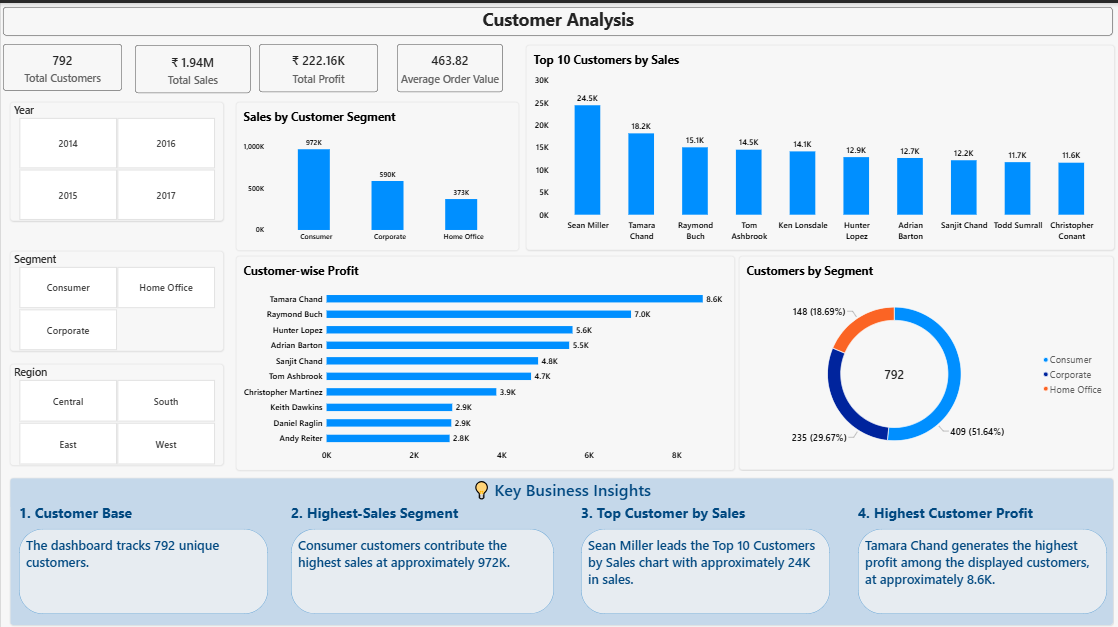

This screenshot's page, from the dashboard's own definition file:
{"tool":"powerbi","page":{"name":"Customer Analysis","canvas":[2560,1440],"ordinal":2},"visuals":[{"type":"textbox","title":"Customer Analysis","box":[5.4,8.1,2535.7,64.7],"z":0},{"type":"card","fields":{"Values":["All Measures.Total Customers"]},"box":[4.6,93.7,272,107.4],"z":1000},{"type":"card","fields":{"Values":["All Measures.Total Sales"]},"box":[307.2,97,264.1,110.5],"z":2000},{"type":"card","fields":{"Values":["All Measures.Total Profit"]},"box":[590.1,94.3,272,109.7],"z":3000},{"type":"card","fields":{"Values":["All Measures.Average Order Value"]},"box":[905.4,94.3,241.7,109.7],"z":4000},{"type":"clusteredColumnChart","title":"Sales by Customer Segment","fields":{"Category":["Dim_Customer.Segment"],"Y":["All Measures.Total Sales"]},"box":[536.3,226.4,646.7,339.5],"z":5000},{"type":"clusteredColumnChart","title":"Top 10 Customers by Sales","fields":{"Category":["Dim_Customer.Customer Name"],"Y":["All Measures.Total Sales"]},"box":[1199.2,97,1344.7,468.9],"z":6000},{"type":"clusteredBarChart","title":"Customer-wise Profit","fields":{"Category":["Dim_Customer.Customer Name"],"Y":["All Measures.Total Profit"]},"box":[536.3,579.4,1139.9,490.4],"z":7000},{"type":"slicer","fields":{"Values":["Dim_Date.Year"]},"box":[21.6,226.4,487.7,272.2],"z":8000},{"type":"slicer","fields":{"Values":["Dim_Customer.Segment"]},"box":[21.6,565.9,487.7,229.1],"z":9000},{"type":"slicer","fields":{"Values":["Dim_Geography.Region"]},"box":[21.6,824.6,487.7,231.7],"z":10000},{"type":"donutChart","title":"Customers by Segment","fields":{"Category":["Dim_Customer.Segment"],"Y":["All Measures.Total Customers"]},"box":[1686.9,579.4,856,489],"z":11000},{"type":"textbox","title":"💡 Key Business Insights","box":[21.6,1086,2522.3,336.8],"z":12000},{"type":"shape","title":"1. Customer Base","box":[40.4,1142.6,569.1,253.7],"z":13000},{"type":"shape","title":"2. Highest-Sales Segment","box":[662.9,1142.6,600.9,253.3],"z":14000},{"type":"shape","title":"3. Top Customer by Sales","box":[1325.8,1142.6,569.1,253.7],"z":15000},{"type":"shape","title":"4. Highest Customer Profit","box":[1959.1,1142.6,569.1,253.7],"z":16000}]}

Visuals, with their boxes in screenshot pixels (x1, y1, x2, y2), scaled from the page's 2560x1440 canvas onto the 1118x627 screenshot:
"Customer Analysis" textbox: locate(2, 4, 1110, 32)
card - All Measures.Total Customers: locate(2, 41, 121, 88)
card - All Measures.Total Sales: locate(134, 42, 249, 90)
card - All Measures.Total Profit: locate(258, 41, 376, 89)
card - All Measures.Average Order Value: locate(395, 41, 501, 89)
"Sales by Customer Segment" clusteredColumnChart: locate(234, 99, 517, 246)
"Top 10 Customers by Sales" clusteredColumnChart: locate(524, 42, 1111, 246)
"Customer-wise Profit" clusteredBarChart: locate(234, 252, 732, 466)
slicer - Dim_Date.Year: locate(9, 99, 222, 217)
slicer - Dim_Customer.Segment: locate(9, 246, 222, 346)
slicer - Dim_Geography.Region: locate(9, 359, 222, 460)
"Customers by Segment" donutChart: locate(737, 252, 1111, 465)
"💡 Key Business Insights" textbox: locate(9, 473, 1111, 620)
"1. Customer Base" shape: locate(18, 498, 266, 608)
"2. Highest-Sales Segment" shape: locate(290, 498, 552, 608)
"3. Top Customer by Sales" shape: locate(579, 498, 828, 608)
"4. Highest Customer Profit" shape: locate(856, 498, 1104, 608)
